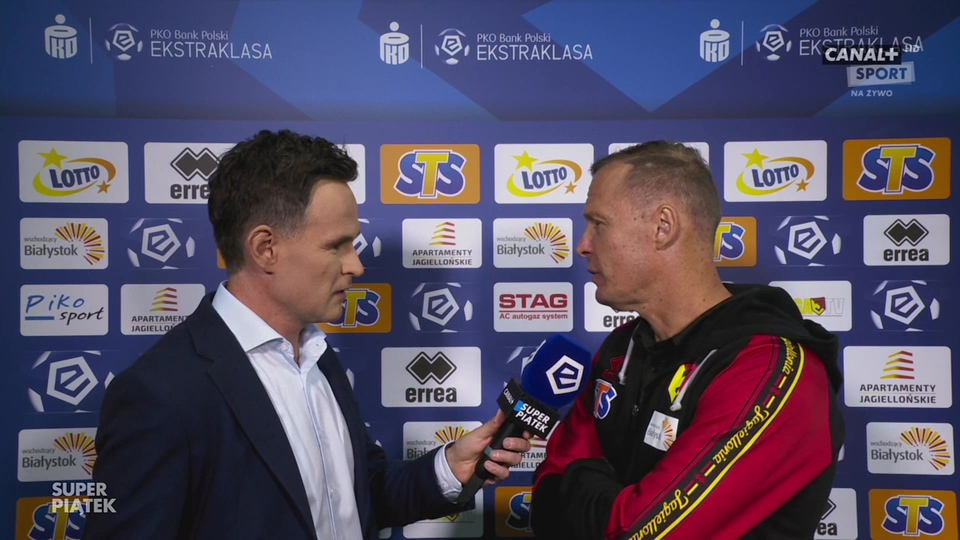pko: (41, 13, 82, 61), (373, 20, 413, 64), (698, 20, 733, 64)
